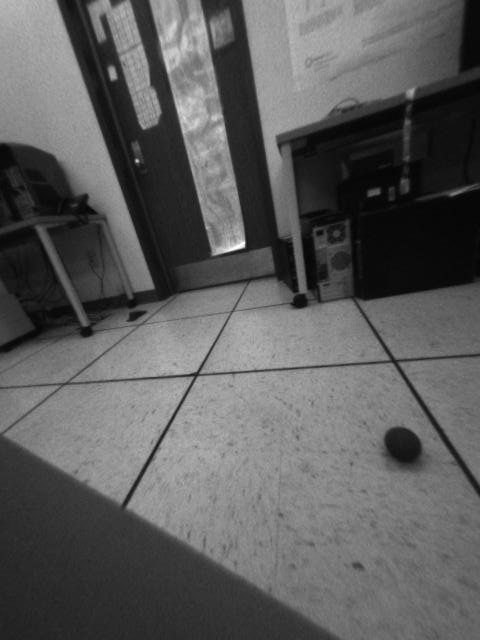dogtoy: (377, 417, 429, 466)
